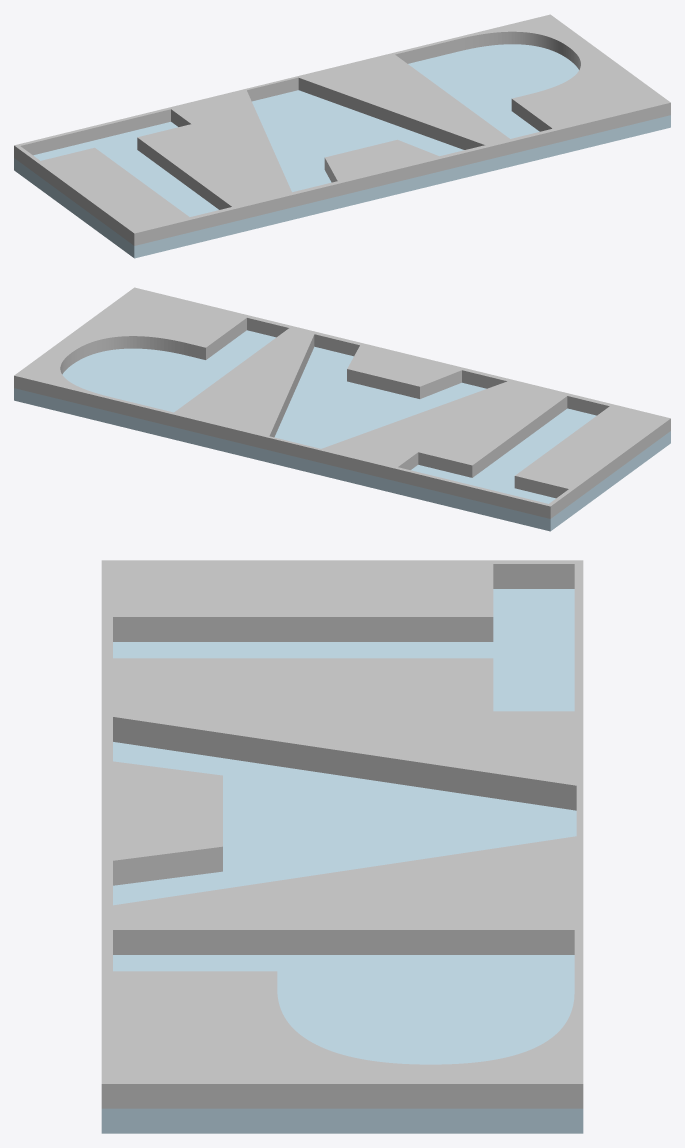
File: TAP.fbx
3 views of the same model, one above another, from view 1: azimuth 30°, elevation 25°; view 2: azimuth 150°, elevation 25°; view 3: azimuth 270°, elevation 25° (orthographic). The views are drawn at different scales.
Parts seen in each view (by area): view 1: imagetostl_mesh0, imagetostl_mesh1; view 2: imagetostl_mesh0, imagetostl_mesh1; view 3: imagetostl_mesh0, imagetostl_mesh1.
Part boxes in pixels (x1=…): imagetostl_mesh0: x1=14, y1=14, x2=670, y2=245; imagetostl_mesh1: x1=14, y1=44, x2=670, y2=258; imagetostl_mesh0: x1=14, y1=287, x2=670, y2=518; imagetostl_mesh1: x1=14, y1=330, x2=670, y2=531; imagetostl_mesh0: x1=101, y1=560, x2=583, y2=1108; imagetostl_mesh1: x1=101, y1=589, x2=583, y2=1133.
Bounding box in the file's own units: 9000 × 400 × 3500.
